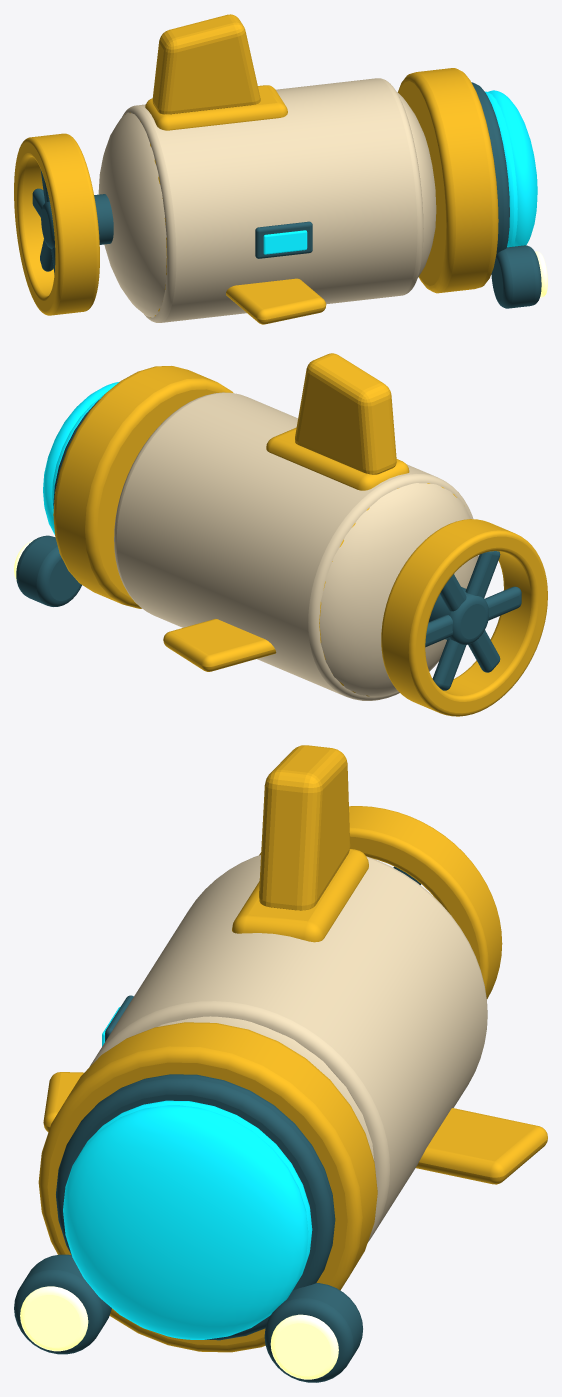
Rendered from submarine.glb.
3 views of the same model, one above another, from view 1: azimuth 30°, elevation 25°; view 2: azimuth 150°, elevation 25°; view 3: azimuth 270°, elevation 25° (orthographic). The views are drawn at different scales.
Visible parts, largest first — view 1: Submarine main hull, Nose rim, Open propeller duct, Rounded stern, Swept dorsal fin, Side fin, Domed glass, Lamp housing, Top fin pedestal, Rounded bow, Window frame, Cyan window (+3 smaller); view 2: Submarine main hull, Open propeller duct, Nose rim, Rounded stern, Swept dorsal fin, Side fin.001, Lamp housing.001, Top fin pedestal, Propeller blade.001, Propeller shaft, Domed glass, Propeller blade (+1 smaller); view 3: Submarine main hull, Domed glass, Nose rim, Swept dorsal fin, Window frame, Open propeller duct, Side fin.001, Top fin pedestal, Lamp housing.001, Lamp lens, Lamp lens.001, Lamp housing (+3 smaller).
Boxes of the visible parts, x1=… form: Submarine main hull: x1=121, y1=78, x2=423, y2=322; Nose rim: x1=398, y1=68, x2=498, y2=293; Open propeller duct: x1=14, y1=133, x2=99, y2=315; Rounded stern: x1=98, y1=112, x2=166, y2=317; Swept dorsal fin: x1=152, y1=14, x2=260, y2=114; Side fin: x1=226, y1=278, x2=326, y2=324; Domed glass: x1=488, y1=90, x2=537, y2=246; Lamp housing: x1=491, y1=245, x2=541, y2=308; Top fin pedestal: x1=145, y1=85, x2=287, y2=130; Rounded bow: x1=396, y1=91, x2=436, y2=278; Window frame: x1=471, y1=82, x2=509, y2=254; Cyan window: x1=485, y1=91, x2=517, y2=247; Submarine main hull: x1=114, y1=392, x2=478, y2=700; Open propeller duct: x1=381, y1=519, x2=547, y2=716; Nose rim: x1=53, y1=366, x2=233, y2=608; Rounded stern: x1=319, y1=483, x2=477, y2=696; Swept dorsal fin: x1=295, y1=353, x2=396, y2=474; Side fin.001: x1=163, y1=619, x2=276, y2=671; Lamp housing.001: x1=16, y1=535, x2=81, y2=606; Top fin pedestal: x1=266, y1=427, x2=409, y2=490; Propeller blade.001: x1=432, y1=551, x2=500, y2=690; Propeller shaft: x1=429, y1=587, x2=488, y2=644; Domed glass: x1=43, y1=381, x2=119, y2=534; Propeller blade: x1=425, y1=586, x2=521, y2=647; Submarine main hull: x1=89, y1=855, x2=487, y2=1241; Domed glass: x1=63, y1=1105, x2=308, y2=1339; Nose rim: x1=38, y1=1022, x2=377, y2=1352; Swept dorsal fin: x1=259, y1=745, x2=350, y2=910; Window frame: x1=56, y1=1074, x2=335, y2=1340; Open propeller duct: x1=259, y1=806, x2=502, y2=998; Side fin.001: x1=416, y1=1108, x2=547, y2=1184; Top fin pedestal: x1=232, y1=849, x2=368, y2=942; Lamp housing.001: x1=264, y1=1283, x2=362, y2=1382; Lamp lens: x1=20, y1=1286, x2=88, y2=1351; Lamp lens.001: x1=270, y1=1314, x2=338, y2=1379; Lamp housing: x1=14, y1=1254, x2=111, y2=1354.
Bounding box in the file's own units: 4.39 × 2.6 × 2.91.
